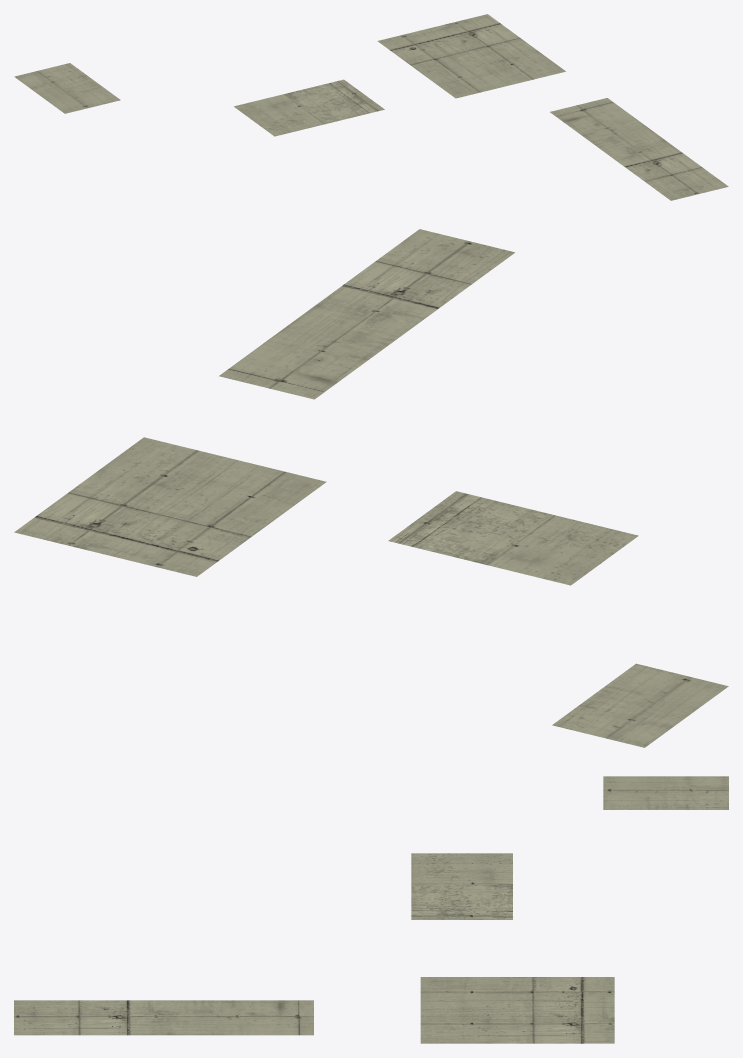
Rendered from SM_NeoLD_14_Water_Col_00.fbx.
3 views of the same model, one above another, from view 1: azimuth 30°, elevation 25°; view 2: azimuth 150°, elevation 25°; view 3: azimuth 270°, elevation 25° (orthographic). The views are drawn at different scales.
Visible parts, largest first — view 1: SM_NeoLD_14_Water_Col_00; view 2: SM_NeoLD_14_Water_Col_00; view 3: SM_NeoLD_14_Water_Col_00.
Boxes of the visible parts, <box> form: SM_NeoLD_14_Water_Col_00: <box>14,14,728,200</box>; SM_NeoLD_14_Water_Col_00: <box>14,229,728,747</box>; SM_NeoLD_14_Water_Col_00: <box>14,776,728,1043</box>.
Size of the model in its own units: 2781 by 61.09 by 3261.
